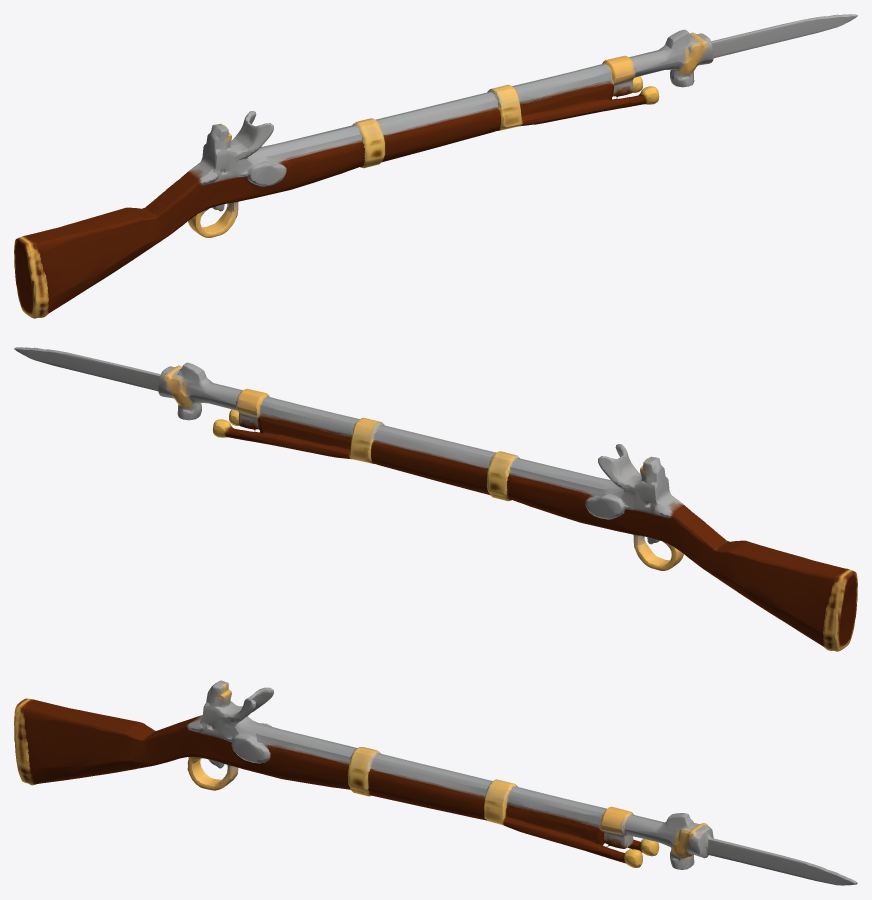
The model's file is flintlock_musket_low.glb.
3 renders of one model, top to bottom at view 1: azimuth 30°, elevation 25°; view 2: azimuth 150°, elevation 25°; view 3: azimuth 330°, elevation 25°, orthographic.
Parts seen in each view (by area): view 1: world; view 2: world; view 3: world.
Boxes of the visible parts, x1,y1,x2,y2 form: world: (14, 14, 857, 318); world: (14, 347, 857, 651); world: (14, 680, 857, 885).
Bounding box in the file's own units: 1 × 0.1638 × 0.0509.
1 material, 1 textured.
